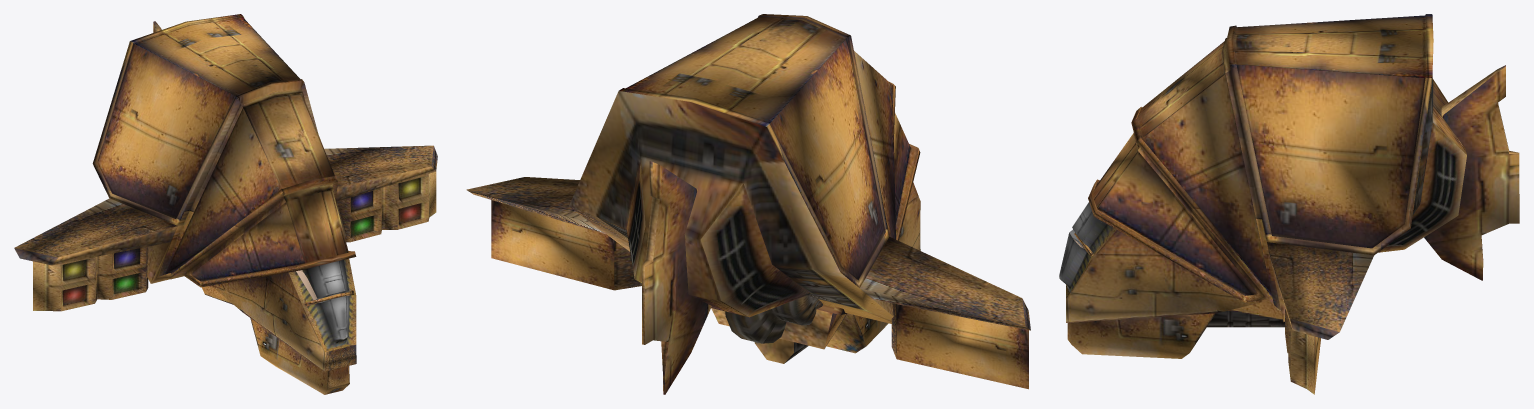
Rendered from koala.obj.
The picture shows the model from 3 angles, left to right: view 1: azimuth 30°, elevation 25°; view 2: azimuth 150°, elevation 25°; view 3: azimuth 270°, elevation 25°; orthographic projection. The views are drawn at different scales.
Bounding box in the file's own units: 18.54 × 11.13 × 14.91.
Materials: 1 (1 with a texture image).
